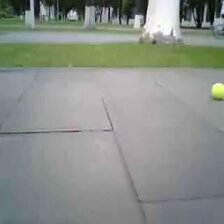tennis: (211, 83, 224, 100)
